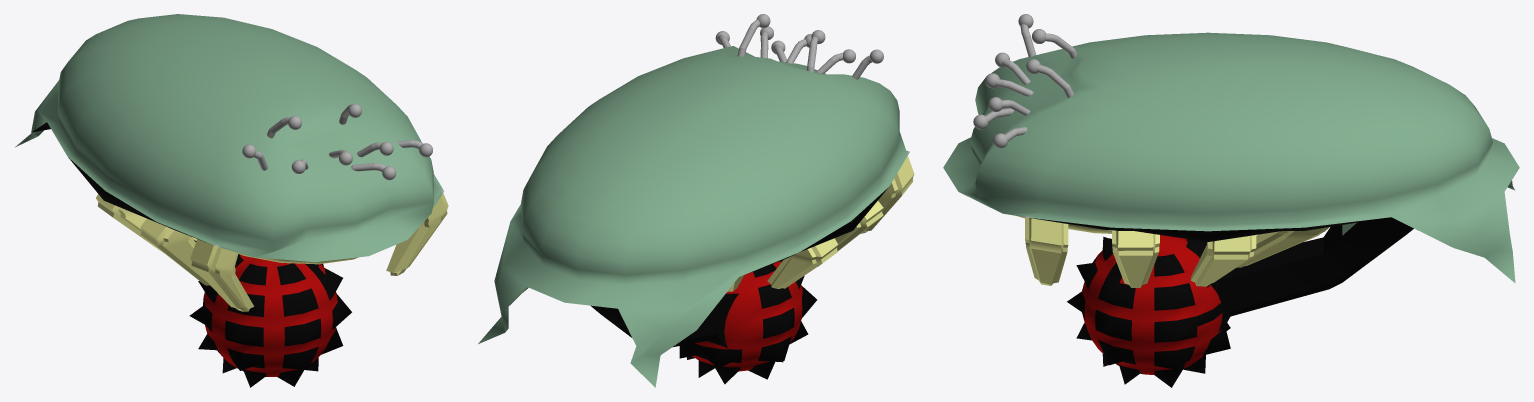
The model's file is BUGGy.fbx.
3 views of the same model, side by side, from view 1: azimuth 30°, elevation 25°; view 2: azimuth 150°, elevation 25°; view 3: azimuth 270°, elevation 25° (orthographic). The views are drawn at different scales.
Visible parts, largest first — view 1: group10, pSphere4; view 2: group10, pSphere4; view 3: group10, pSphere4.
Boxes of the visible parts, x1,y1,x2,y2 form: group10: [15, 14, 448, 311]; pSphere4: [189, 254, 351, 387]; group10: [478, 14, 914, 387]; pSphere4: [679, 260, 817, 384]; group10: [943, 14, 1519, 332]; pSphere4: [1067, 235, 1230, 387].
Bounding box in the file's own units: 2.08 × 2.11 × 3.41.
